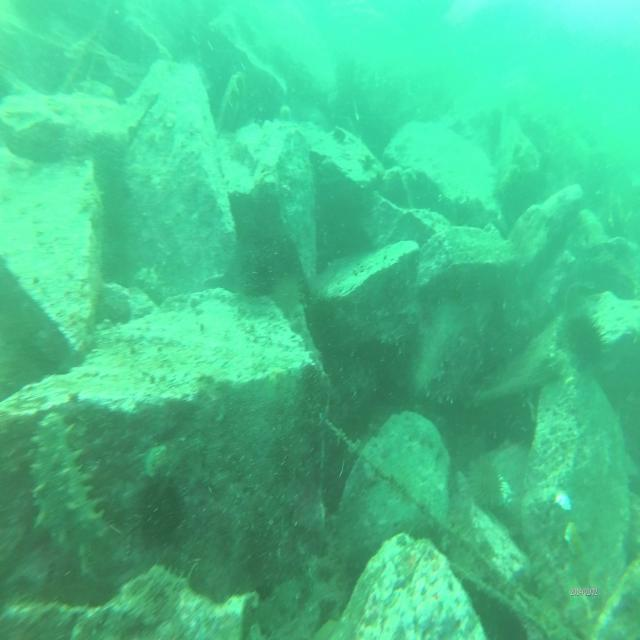echinus: (138, 478, 185, 547), (460, 450, 507, 518), (561, 308, 607, 374), (272, 270, 302, 320), (242, 256, 274, 302)
holothurian: (23, 415, 112, 566), (143, 556, 193, 598)
